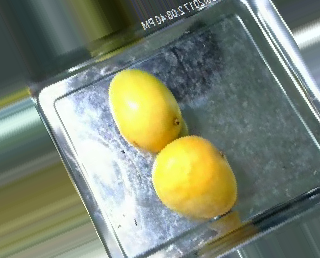Mango: (151, 136, 237, 220), (108, 68, 179, 148)
